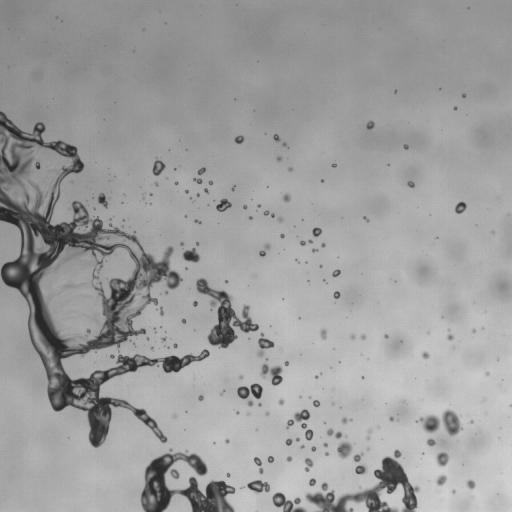droplet: (304, 449, 419, 511), (140, 450, 235, 511), (196, 278, 258, 348), (416, 409, 463, 436), (286, 409, 313, 440), (237, 383, 262, 406), (260, 363, 282, 385), (257, 333, 274, 356), (353, 453, 367, 475), (246, 480, 269, 493), (336, 441, 352, 458), (182, 248, 199, 262), (152, 158, 165, 175), (216, 198, 231, 211), (436, 452, 448, 466), (97, 193, 107, 207), (455, 202, 466, 213), (304, 458, 313, 471), (436, 475, 446, 485), (312, 227, 321, 236), (466, 480, 475, 489), (235, 135, 244, 143), (426, 438, 435, 446), (320, 329, 327, 339), (366, 121, 374, 129), (197, 167, 205, 175), (332, 269, 340, 277), (283, 193, 290, 202), (341, 417, 351, 423), (333, 291, 340, 298), (422, 351, 429, 358), (285, 438, 292, 445), (194, 177, 202, 183), (309, 478, 315, 486), (273, 134, 279, 141), (407, 181, 414, 187), (313, 400, 319, 407), (447, 334, 453, 340), (278, 399, 284, 405), (159, 308, 164, 315), (268, 456, 273, 463), (198, 395, 203, 401), (286, 456, 292, 461), (403, 144, 408, 149), (204, 188, 209, 193), (300, 240, 305, 245), (350, 334, 355, 339), (389, 416, 394, 421), (277, 156, 281, 161), (364, 217, 369, 221), (195, 219, 200, 223), (280, 233, 284, 238), (312, 248, 317, 252), (193, 301, 197, 306), (361, 334, 365, 339), (161, 337, 166, 341), (173, 343, 177, 348), (225, 438, 229, 443), (323, 442, 327, 447), (311, 446, 315, 451), (462, 93, 466, 97), (282, 142, 286, 146), (288, 167, 292, 171), (208, 180, 212, 184), (278, 217, 282, 221), (308, 239, 312, 243), (321, 243, 325, 247), (384, 334, 388, 338), (110, 354, 114, 358), (239, 375, 243, 379), (332, 164, 336, 167), (232, 186, 235, 190), (182, 319, 185, 323), (285, 361, 288, 365), (485, 372, 489, 375), (469, 420, 473, 423), (454, 107, 457, 110), (174, 181, 177, 184), (155, 182, 158, 185), (243, 205, 246, 208), (472, 329, 475, 332), (301, 445, 304, 448), (325, 452, 328, 455), (452, 490, 455, 493), (185, 190, 188, 192), (197, 193, 199, 196), (258, 204, 260, 207), (249, 216, 251, 219), (319, 265, 322, 267), (151, 347, 153, 350), (221, 391, 223, 394), (258, 403, 261, 405), (266, 412, 268, 415), (296, 438, 299, 440), (227, 474, 230, 476), (197, 243, 199, 245), (315, 376, 317, 378), (174, 415, 176, 417)
ligament: (0, 111, 206, 447), (272, 492, 307, 511), (326, 429, 342, 438), (254, 457, 263, 473), (259, 244, 270, 256), (264, 210, 274, 217), (63, 283, 76, 288), (366, 430, 371, 439)
